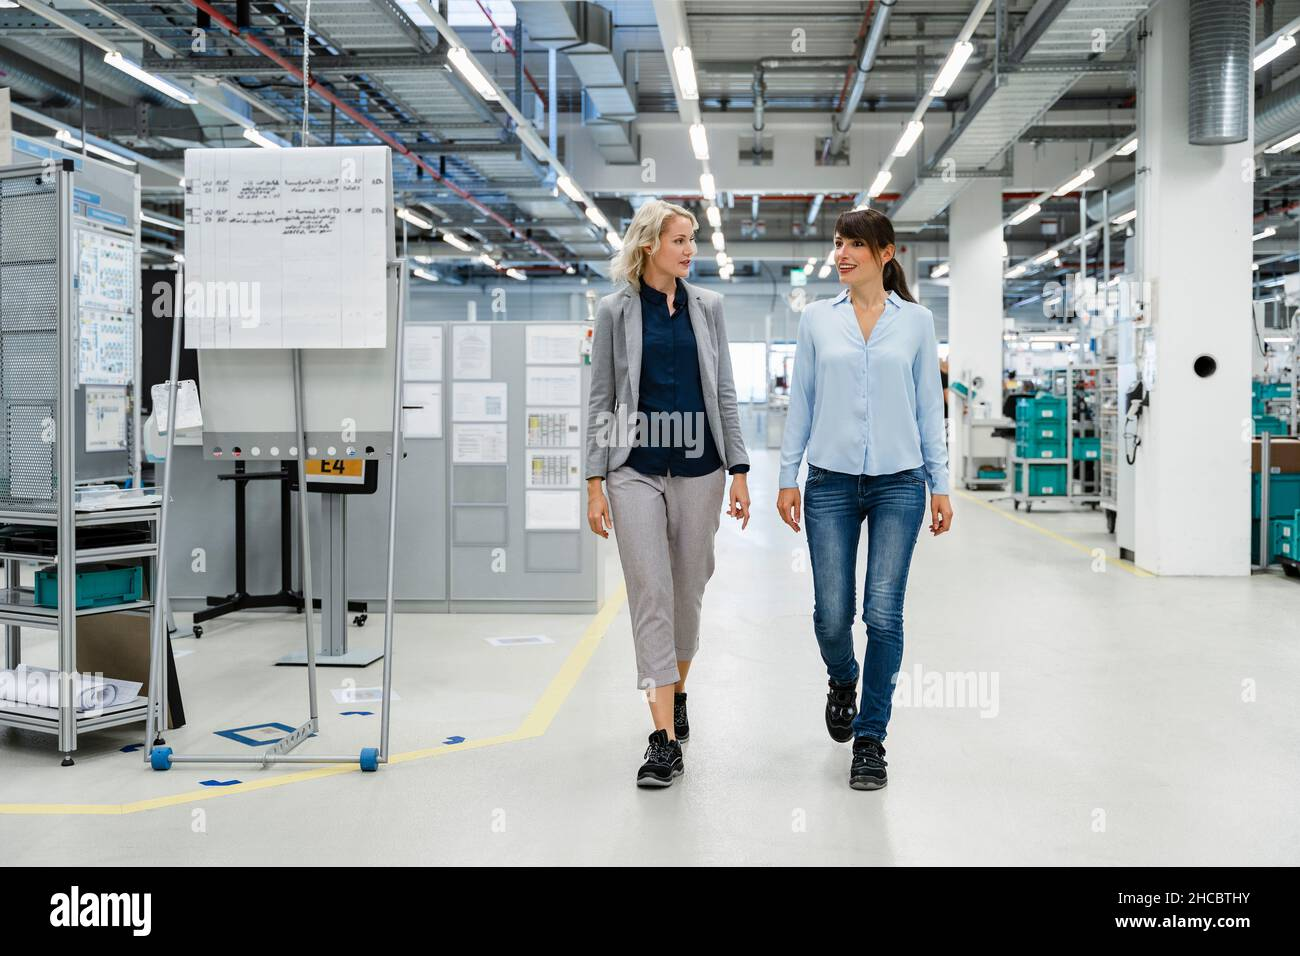person: (578, 199, 751, 792), (778, 212, 951, 787)
